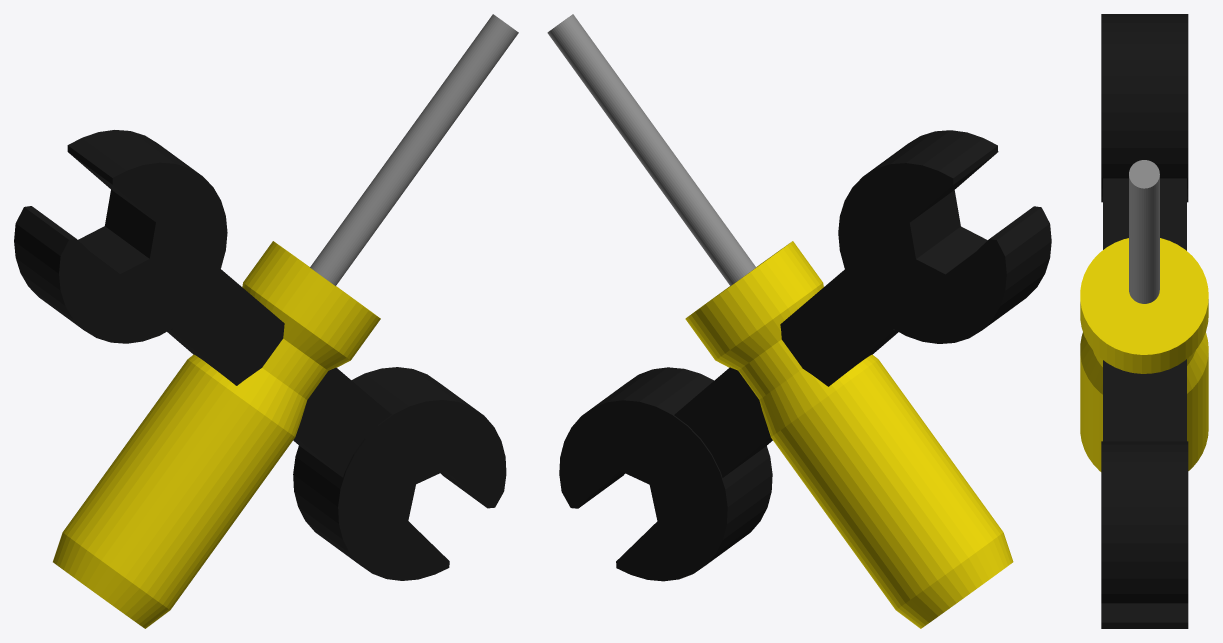
Rendered from tools.glb.
3 views of the same model, side by side, from view 1: azimuth 30°, elevation 25°; view 2: azimuth 150°, elevation 25°; view 3: azimuth 270°, elevation 25° (orthographic). The views are drawn at different scales.
Visible parts, largest first — view 1: Cylinder.002, Cylinder, Cylinder.001, Cube.001, Cylinder.003; view 2: Cylinder.002, Cylinder, Cylinder.001, Cube.001, Cylinder.003; view 3: Cylinder.002, Cylinder.001, Cylinder, Cube.001, Cylinder.003.
Boxes of the visible parts, x1,y1,x2,y2 form: Cylinder.002: (53, 241, 380, 628); Cylinder: (14, 130, 227, 343); Cylinder.001: (293, 367, 506, 580); Cube.001: (167, 269, 391, 477); Cylinder.003: (310, 14, 518, 285); Cylinder.002: (685, 241, 1013, 628); Cylinder: (838, 130, 1051, 343); Cylinder.001: (559, 367, 772, 581); Cube.001: (674, 269, 898, 477); Cylinder.003: (547, 14, 755, 285); Cylinder.002: (1080, 238, 1208, 471); Cylinder.001: (1101, 441, 1188, 628); Cylinder: (1101, 14, 1188, 202); Cube.001: (1103, 178, 1186, 441); Cylinder.003: (1129, 160, 1159, 303).
Size of the model in its own units: 2.52 by 2.63 by 0.6063.
